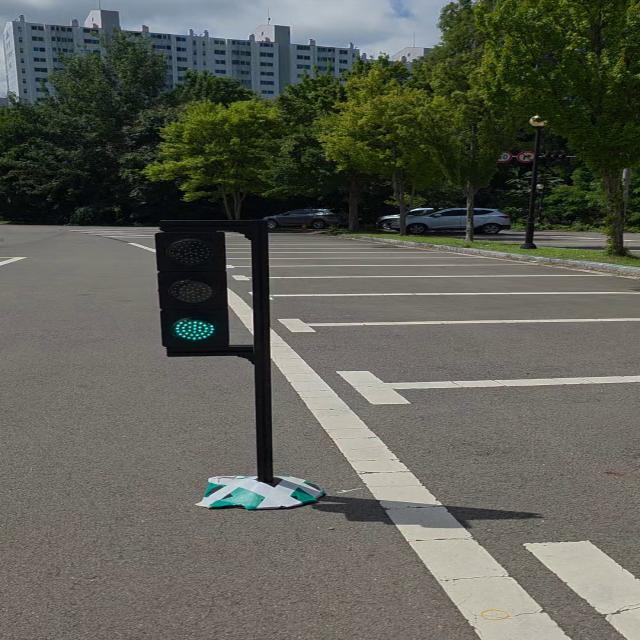green: (158, 230, 230, 355)
